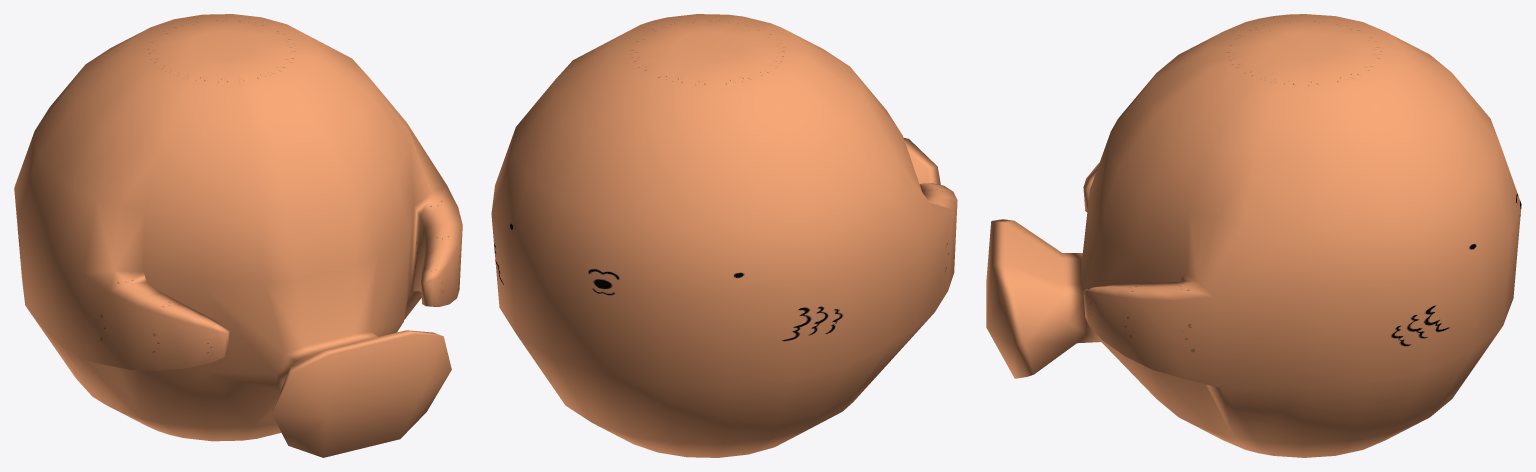
Rendered from Pesce.fbx.
3 renders of one model, left to right at view 1: azimuth 30°, elevation 25°; view 2: azimuth 150°, elevation 25°; view 3: azimuth 270°, elevation 25°, orthographic. The views are drawn at different scales.
Visible parts, largest first — view 1: pSphere1; view 2: pSphere1; view 3: pSphere1.
Boxes of the visible parts, box(x1,y1,x2,y2) form: pSphere1: box(14, 14, 462, 457); pSphere1: box(491, 14, 957, 457); pSphere1: box(986, 14, 1521, 457).
Size of the model in its own units: 1.97 by 1.89 by 2.4.
